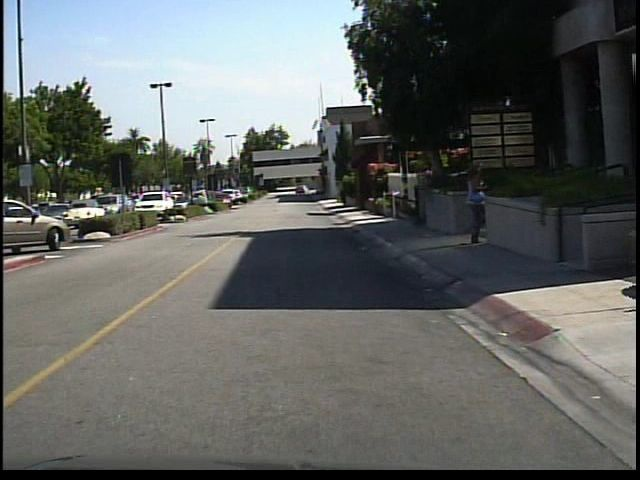person: (458, 148, 488, 252)
